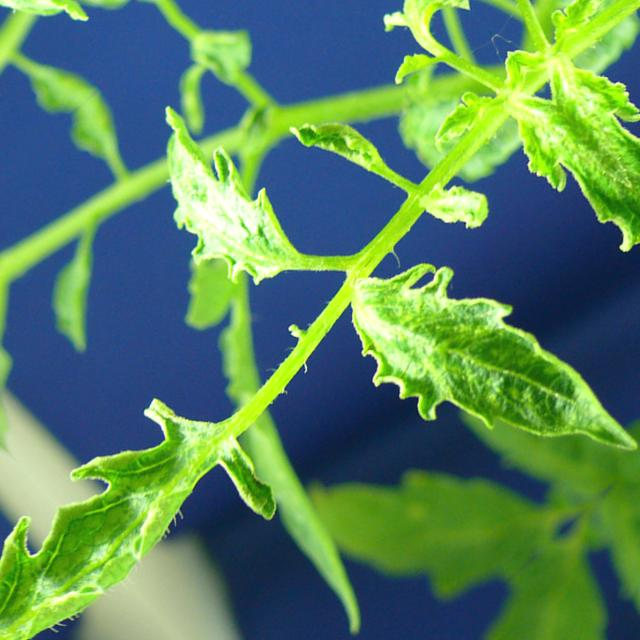Tomato leaf mosaic virus: (302, 190, 640, 568), (48, 358, 307, 613), (92, 81, 330, 325), (464, 83, 640, 330)
